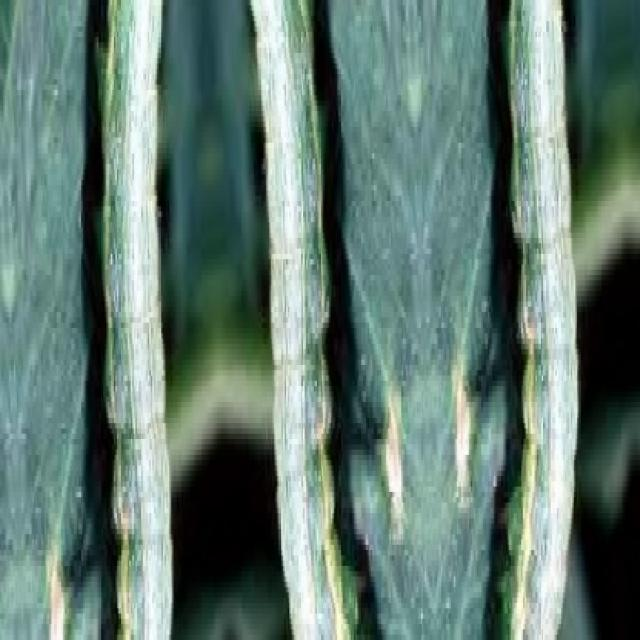Armyworm: (244, 1, 347, 640), (98, 1, 186, 640), (510, 1, 582, 640)
